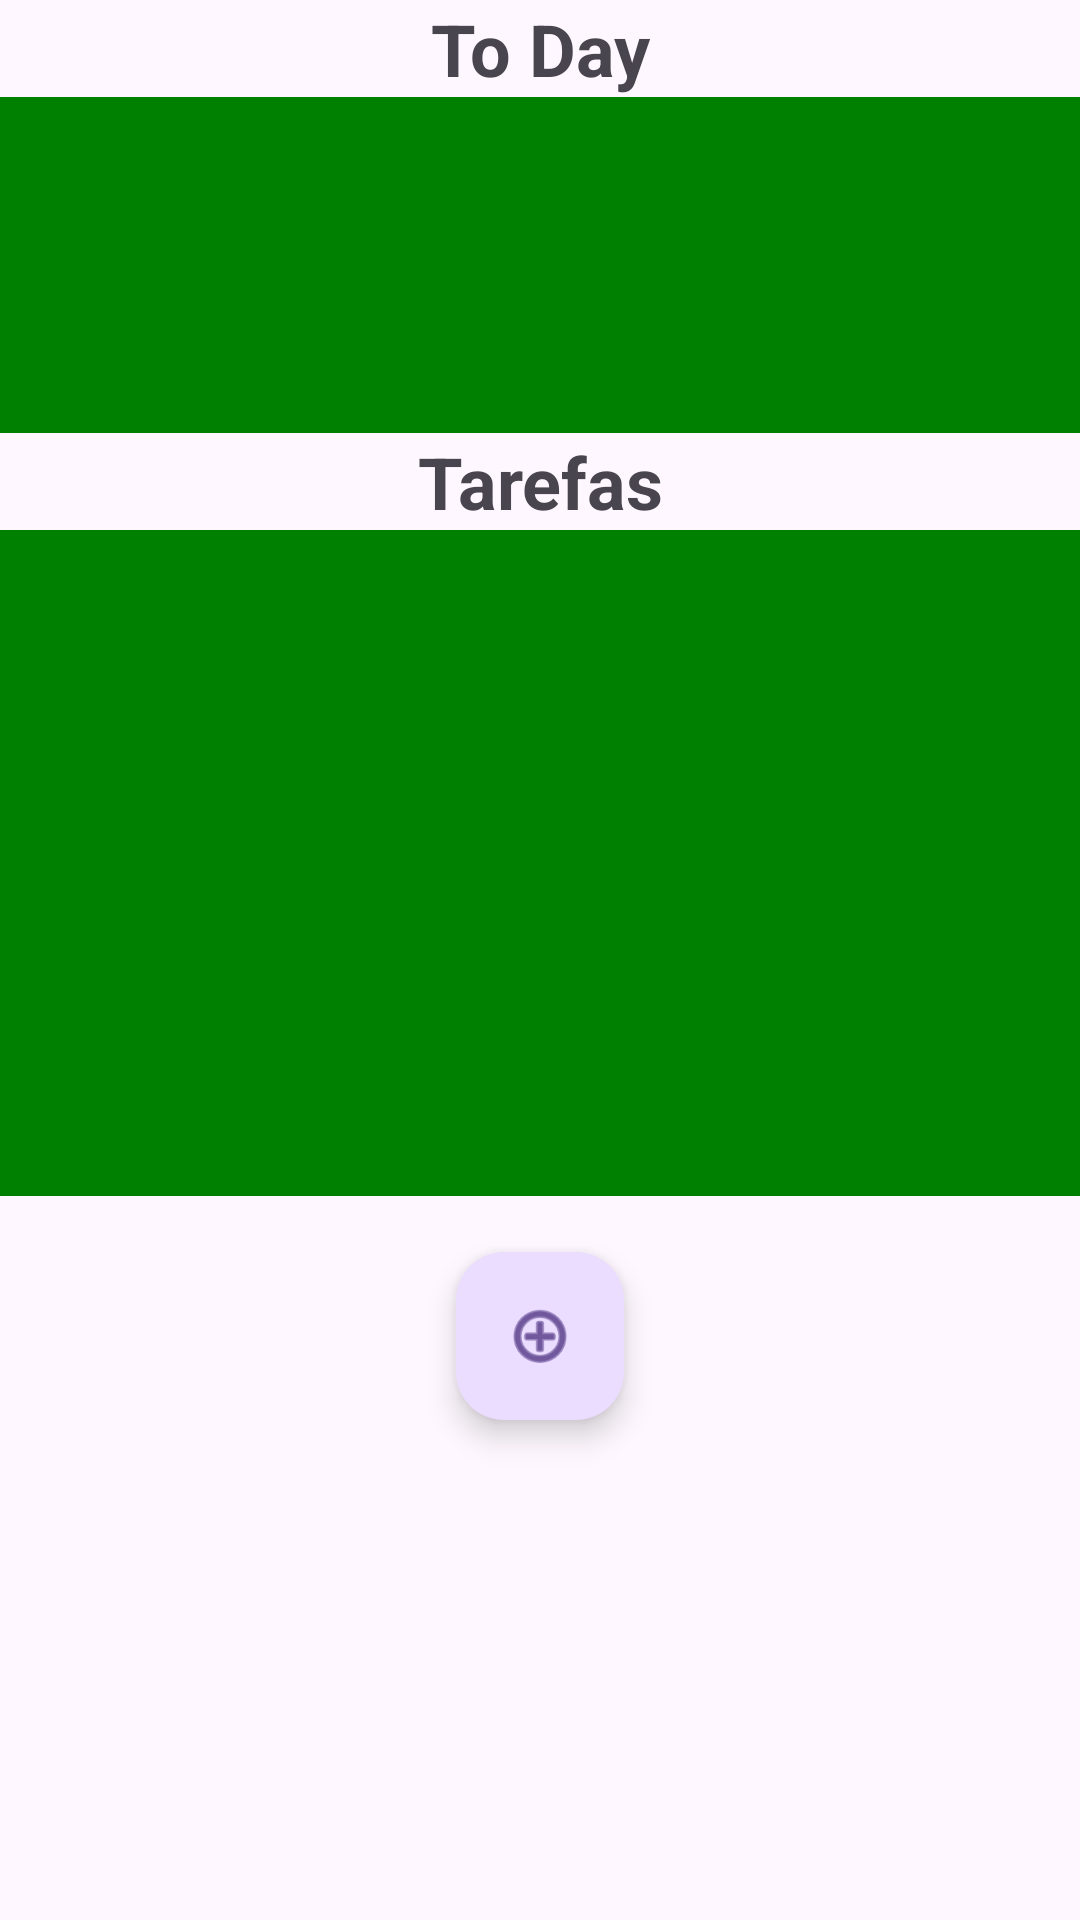

Screen size 1080x1920. Icon name, then its center in pixels as (x=x, y=y):
add: (x=540, y=1336)
